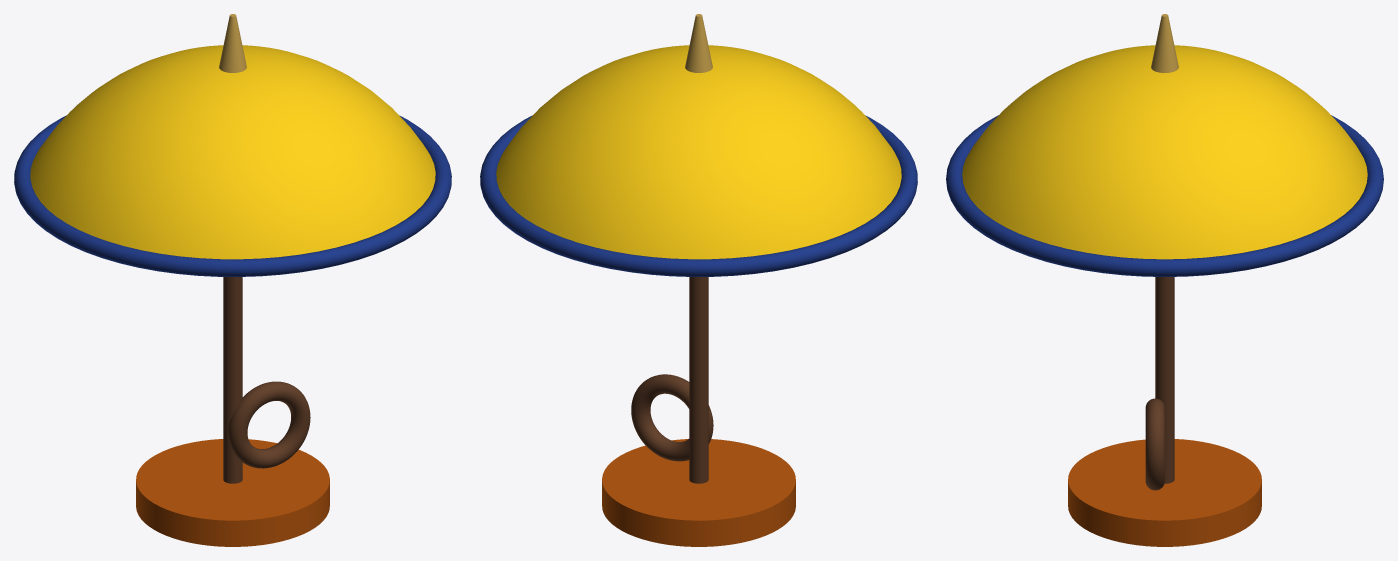
File: umbrella.glb
3 views of the same model, side by side, from view 1: azimuth 30°, elevation 25°; view 2: azimuth 150°, elevation 25°; view 3: azimuth 270°, elevation 25° (orthographic).
Parts seen in each view (by area): view 1: canopy_main, umb_base, canopy_rim, umb_handle, umb_shaft, umb_tip; view 2: canopy_main, umb_base, canopy_rim, umb_shaft, umb_handle, umb_tip; view 3: canopy_main, umb_base, canopy_rim, umb_shaft, umb_handle, umb_tip.
Part boxes in pixels (x1,y1,x2,y2): canopy_main: [30, 45, 435, 259]; umb_base: [136, 439, 329, 546]; canopy_rim: [14, 115, 451, 276]; umb_handle: [228, 381, 310, 468]; umb_shaft: [223, 277, 242, 483]; umb_tip: [219, 14, 246, 72]; canopy_main: [496, 45, 901, 259]; umb_base: [602, 439, 795, 546]; canopy_rim: [480, 115, 917, 276]; umb_shaft: [689, 277, 708, 483]; umb_handle: [631, 374, 713, 461]; umb_tip: [685, 14, 712, 72]; canopy_main: [962, 45, 1367, 259]; umb_base: [1068, 439, 1261, 546]; canopy_rim: [946, 115, 1383, 276]; umb_shaft: [1155, 277, 1174, 483]; umb_handle: [1145, 398, 1164, 490]; umb_tip: [1151, 14, 1178, 72].
Size of the model in its own units: 0.542 by 0.67 by 0.542.
